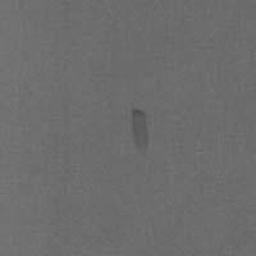Oil spot: (132, 108, 148, 149)
